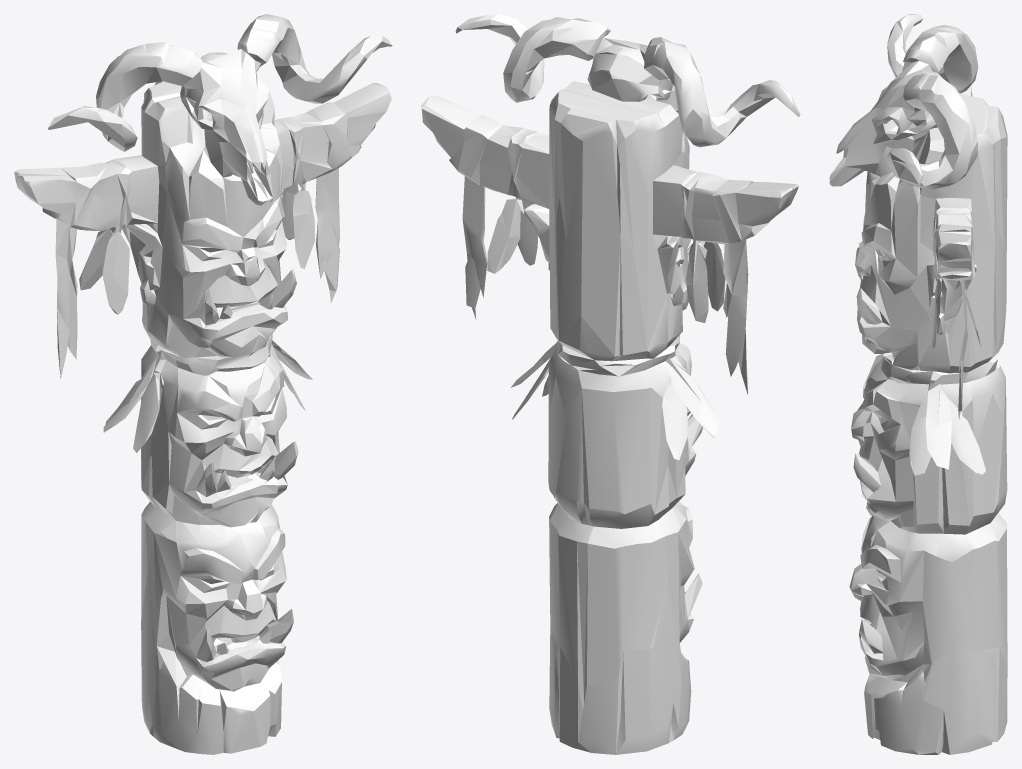
The model's file is totem_pole.glb.
The picture shows the model from 3 angles, left to right: view 1: azimuth 30°, elevation 25°; view 2: azimuth 150°, elevation 25°; view 3: azimuth 270°, elevation 25°; orthographic projection. The views are drawn at different scales.
Parts seen in each view (by area): view 1: totem_pole; view 2: totem_pole; view 3: totem_pole.
Boxes of the visible parts, x1,y1,x2,y2 form: totem_pole: (14, 14, 392, 754); totem_pole: (421, 14, 800, 754); totem_pole: (829, 14, 1007, 754).
Bounding box in the file's own units: 2.48 × 4.5 × 1.08.
Materials: 1 (1 with a texture image).
